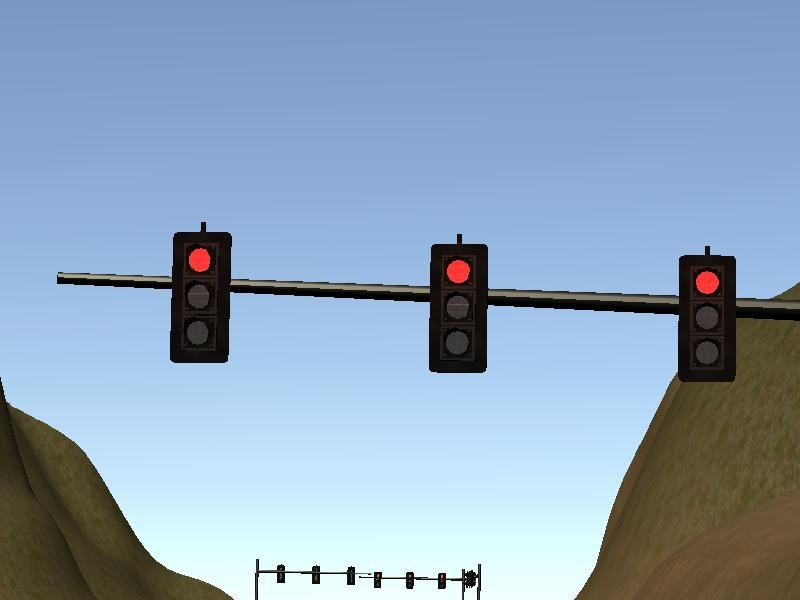red: (173, 230, 230, 364), (430, 244, 488, 374), (679, 255, 737, 382), (407, 572, 415, 588), (439, 573, 446, 590), (376, 573, 382, 588)
